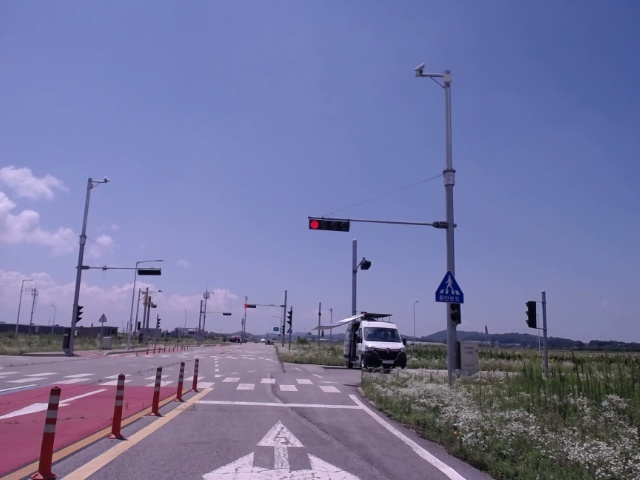red_4: (309, 220, 350, 232)
